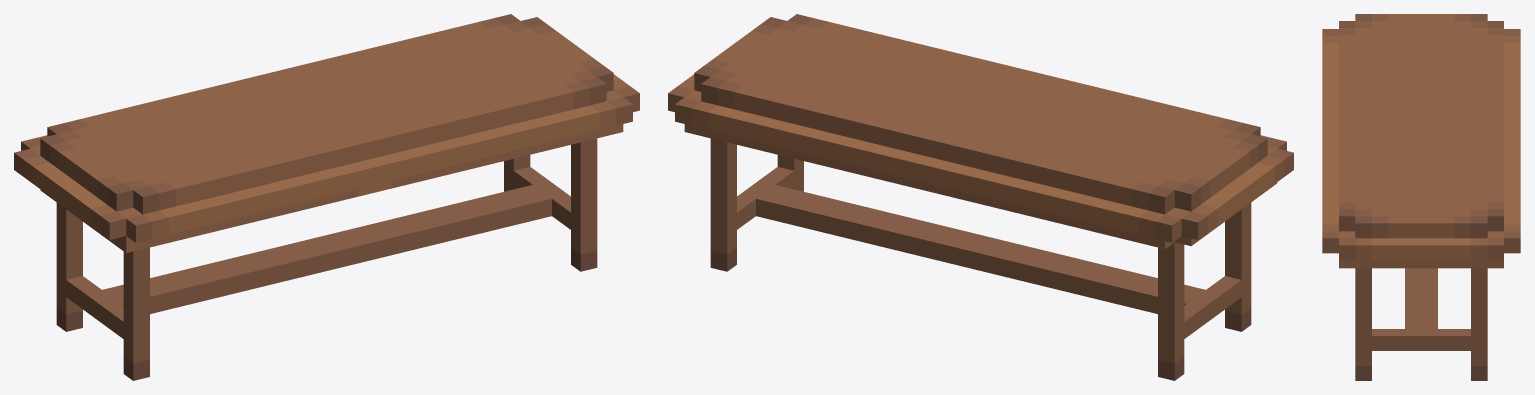
File: Interior_Furniture_Table_Long_Type03_2x1.obj
3 views of the same model, side by side, from view 1: azimuth 30°, elevation 25°; view 2: azimuth 150°, elevation 25°; view 3: azimuth 270°, elevation 25° (orthographic). The views are drawn at different scales.
Bounding box in the file's own units: 3.2 × 1.1 × 1.2.
1 material, 1 textured.
